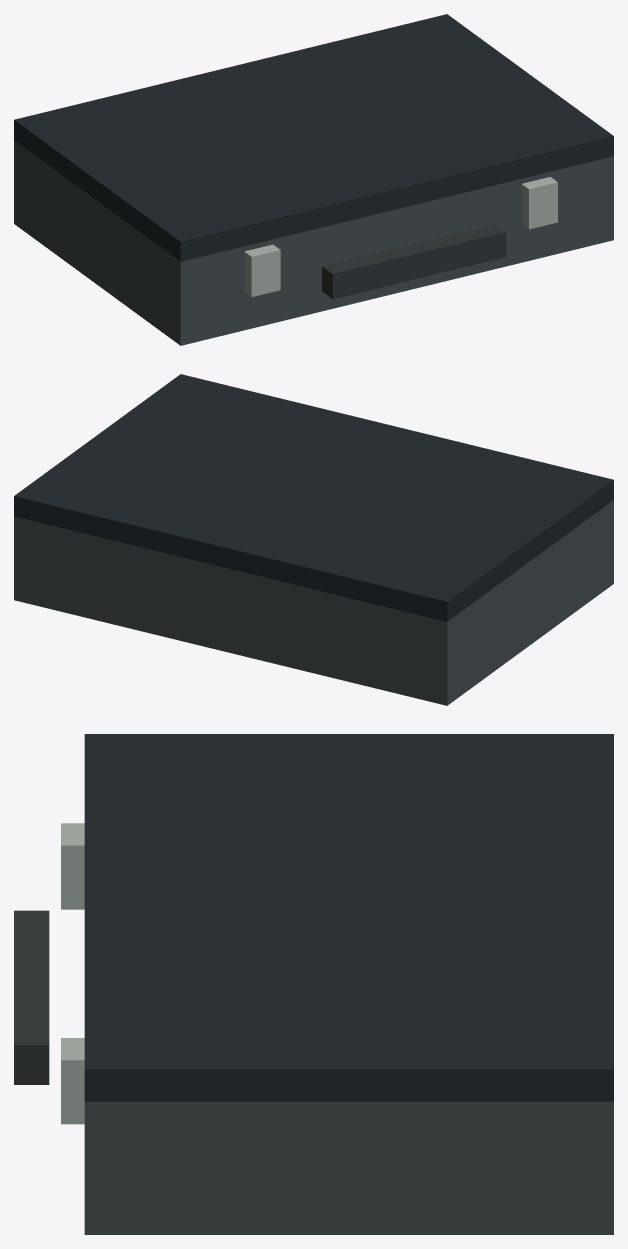
The model's file is blender_ectoplasm_sampler_3.glb.
The picture shows the model from 3 angles, top to bottom: view 1: azimuth 30°, elevation 25°; view 2: azimuth 150°, elevation 25°; view 3: azimuth 270°, elevation 25°; orthographic projection. The views are drawn at different scales.
Visible parts, largest first — view 1: blender_ectoplasm_sampler_3; view 2: blender_ectoplasm_sampler_3; view 3: blender_ectoplasm_sampler_3.
Boxes of the visible parts, x1,y1,x2,y2 form: blender_ectoplasm_sampler_3: (14, 14, 613, 345); blender_ectoplasm_sampler_3: (14, 374, 613, 705); blender_ectoplasm_sampler_3: (14, 734, 613, 1234).
Size of the model in its own units: 0.27 by 0.062 by 0.204.
Materials: 1 (1 with a texture image).
